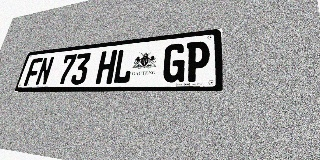3: (70, 53, 91, 85)
7: (56, 54, 77, 85)
F: (23, 58, 43, 86)
G: (162, 43, 186, 83)
H: (95, 50, 117, 84)
L: (112, 48, 135, 84)
N: (35, 56, 55, 86)
P: (185, 40, 210, 82)
